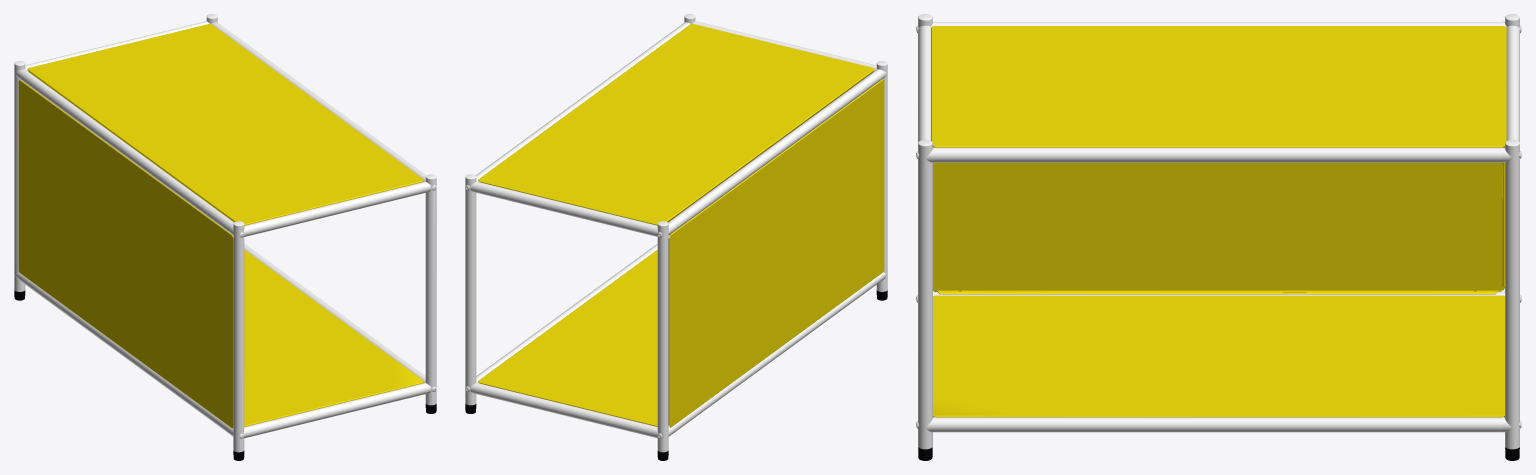
File: 80x40x40-1-2-yellow_optimized_optimized.glb
3 renders of one model, left to right at view 1: azimuth 30°, elevation 25°; view 2: azimuth 150°, elevation 25°; view 3: azimuth 270°, elevation 25°, orthographic. The views are drawn at different scales.
Parts seen in each view (by area): view 1: 直角鐵板-80x40-5 - 零件, new-上塞-1 - 零件; view 2: 直角鐵板-80x40-5 - 零件, new-上塞-1 - 零件; view 3: 直角鐵板-80x40-5 - 零件, new-上塞-1 - 零件.
Part boxes in pixels (<box>): 直角鐵板-80x40-5 - 零件: <box>18,23,423,428</box>; new-上塞-1 - 零件: <box>14,14,436,452</box>; 直角鐵板-80x40-5 - 零件: <box>478,23,884,427</box>; new-上塞-1 - 零件: <box>465,14,887,452</box>; 直角鐵板-80x40-5 - 零件: <box>931,26,1506,417</box>; new-上塞-1 - 零件: <box>916,14,1521,449</box>.
Size of the model in its own units: 0.3992 by 0.4453 by 0.7732.
